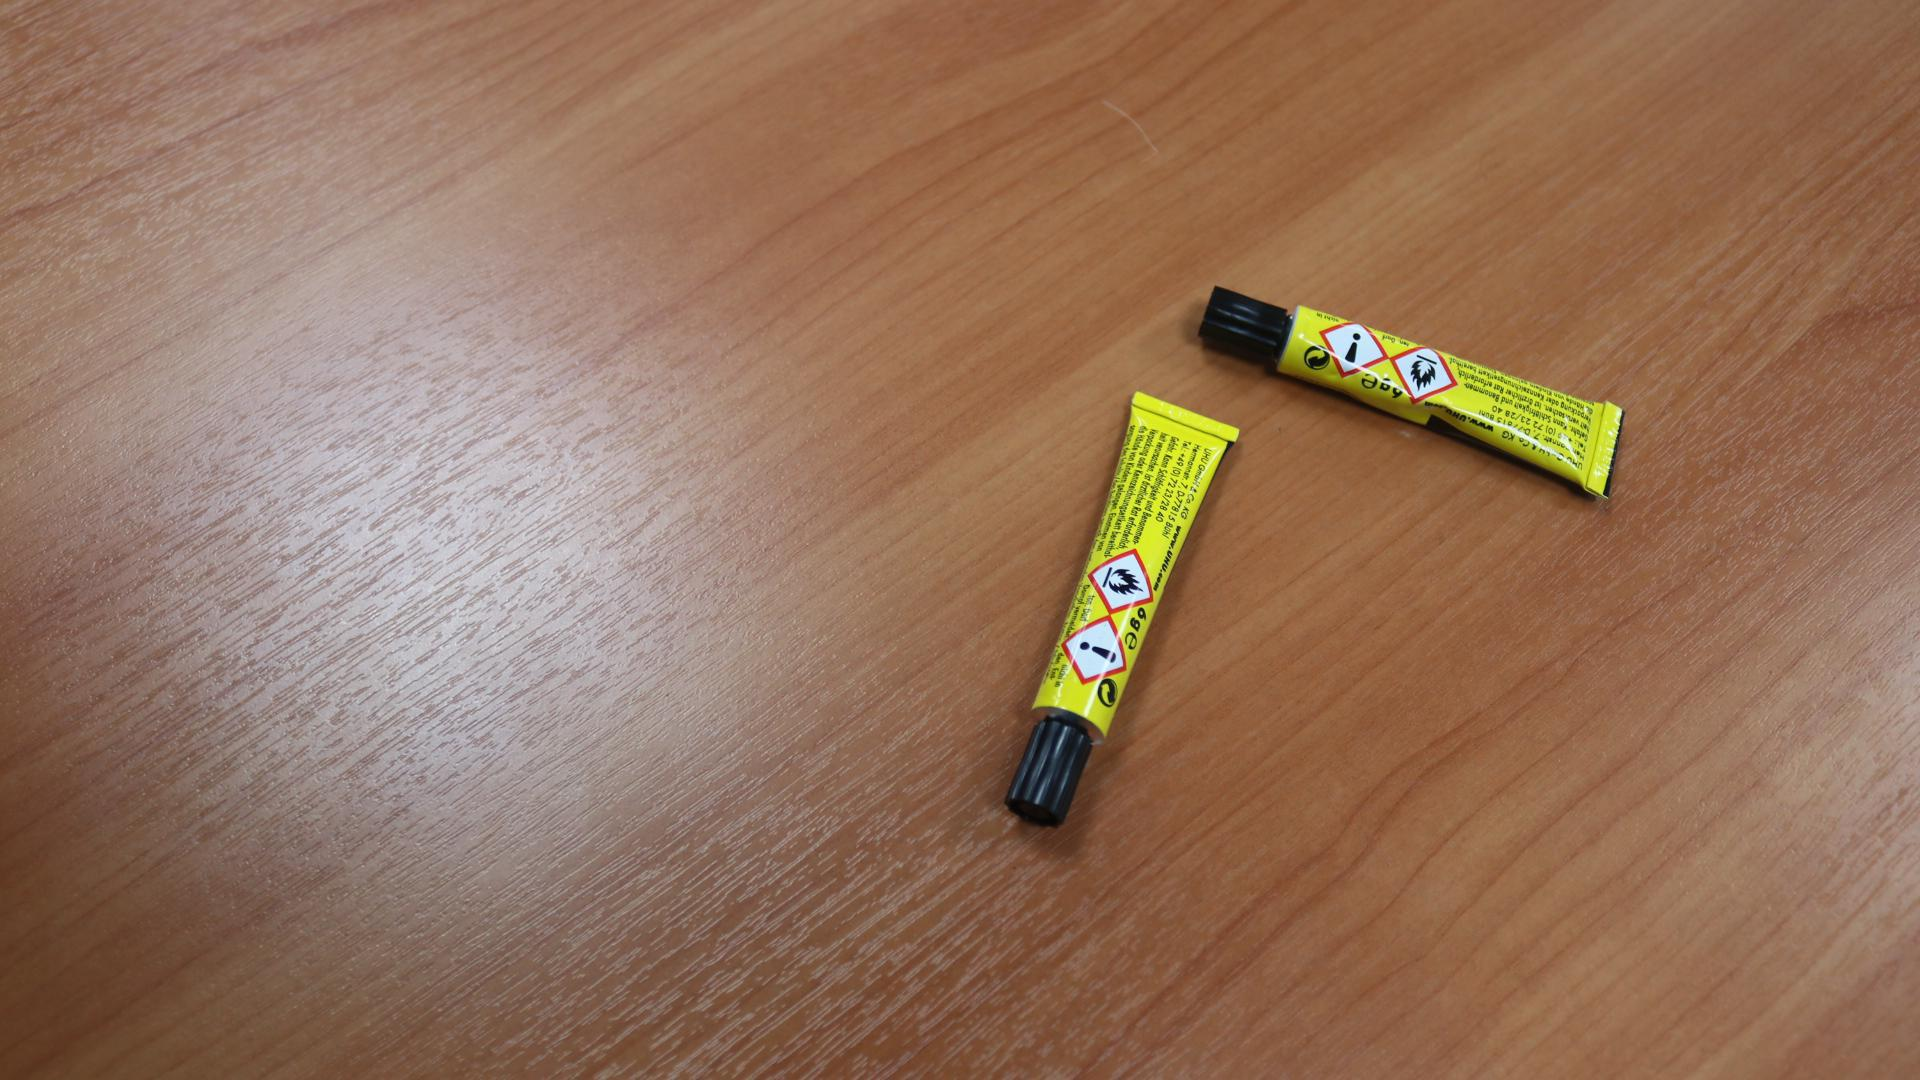Head: (1237, 314, 1253, 330), (1048, 759, 1060, 773)
Tail: (1599, 440, 1611, 455), (1181, 412, 1193, 423)
Tube: (1005, 391, 1242, 830), (1197, 284, 1627, 500)
